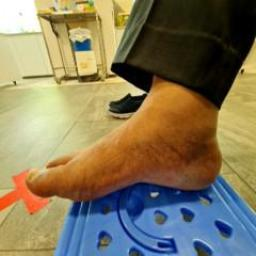Medial View -Right Foot-: (11, 80, 244, 217)
